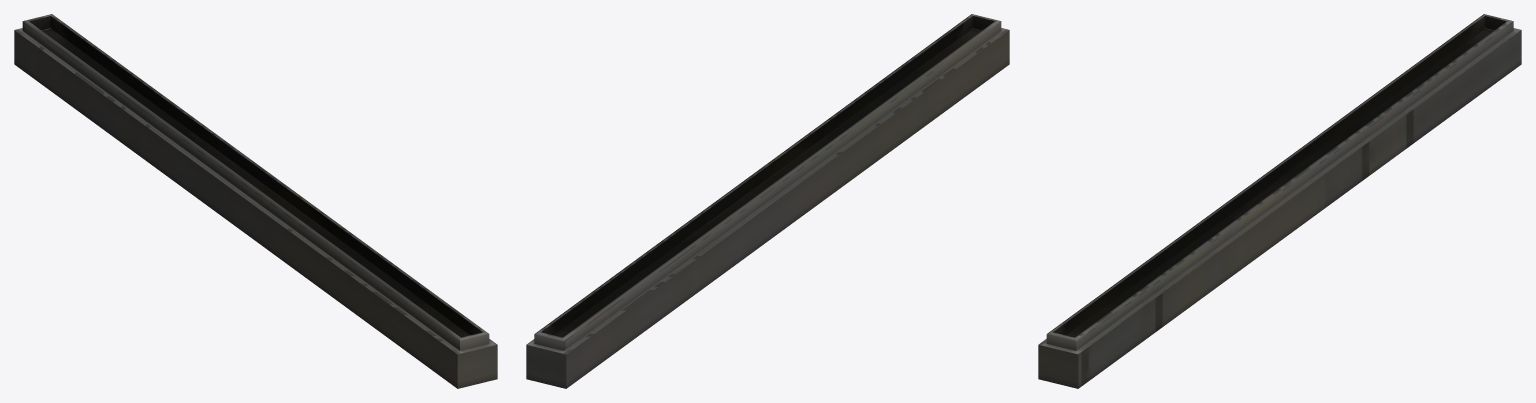
3 views of the same model, side by side, from view 1: azimuth 30°, elevation 25°; view 2: azimuth 150°, elevation 25°; view 3: azimuth 330°, elevation 25° (orthographic).
Visible parts, largest first — view 1: body0_model0_lod0_mesh0; view 2: body0_model0_lod0_mesh0; view 3: body0_model0_lod0_mesh0.
Boxes of the visible parts, x1=… form: body0_model0_lod0_mesh0: x1=14, y1=14, x2=497, y2=388; body0_model0_lod0_mesh0: x1=526, y1=14, x2=1009, y2=388; body0_model0_lod0_mesh0: x1=1038, y1=14, x2=1521, y2=388.
Bounding box in the file's own units: 10.01 × 10.78 × 192.
1 material, 1 textured.
